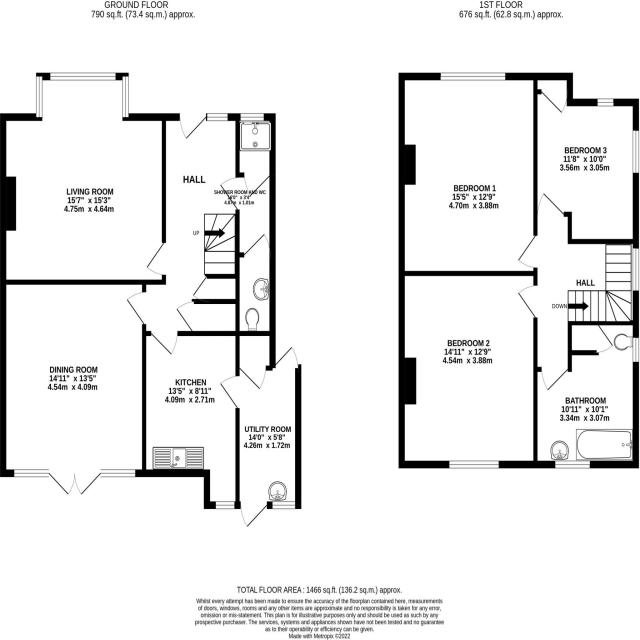DOOR: (123, 290, 147, 326), (217, 374, 240, 410), (145, 240, 167, 277), (149, 330, 180, 356), (174, 300, 197, 332), (541, 88, 569, 114), (541, 366, 568, 392), (517, 285, 538, 318), (517, 235, 537, 268), (595, 324, 614, 353)
DOUBLE DOOR: (48, 468, 101, 499)
ROOM: (0, 72, 167, 285), (0, 279, 147, 496), (398, 72, 538, 277), (398, 271, 538, 469), (533, 72, 640, 244), (142, 331, 240, 510)
WINDOW: (238, 500, 269, 530), (237, 365, 268, 391), (438, 71, 508, 82), (274, 344, 301, 370), (50, 72, 116, 80), (630, 125, 640, 177), (448, 460, 500, 469), (631, 245, 640, 293), (100, 469, 136, 477), (555, 461, 591, 469), (631, 334, 640, 365), (206, 111, 229, 122), (122, 76, 128, 118), (36, 76, 42, 118), (238, 113, 266, 122), (213, 500, 237, 510), (14, 469, 48, 476), (596, 97, 614, 107)
